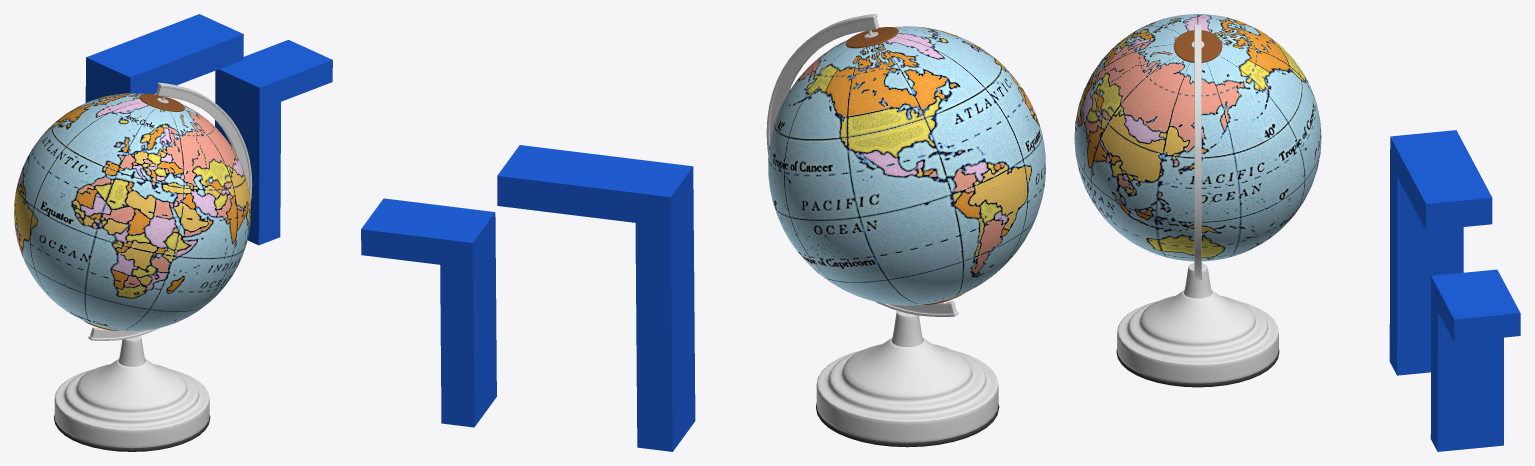
The picture shows the model from 3 angles, left to right: view 1: azimuth 30°, elevation 25°; view 2: azimuth 150°, elevation 25°; view 3: azimuth 270°, elevation 25°; orthographic projection. The views are drawn at different scales.
Visible parts, largest first — view 1: globe, uploads files 2013243 Гг; view 2: globe, uploads files 2013243 Гг; view 3: globe, uploads files 2013243 Гг.
Boxes of the visible parts, <box> form: globe: <box>14,82,252,451</box>; uploads files 2013243 Гг: <box>85,14,332,245</box>; globe: <box>766,14,1045,447</box>; uploads files 2013243 Гг: <box>361,145,695,451</box>; globe: <box>1074,14,1321,387</box>; uploads files 2013243 Гг: <box>1389,130,1520,451</box>.
Bounding box in the file's own units: 37.38 × 27.57 × 32.53.
5 materials, 1 textured.
